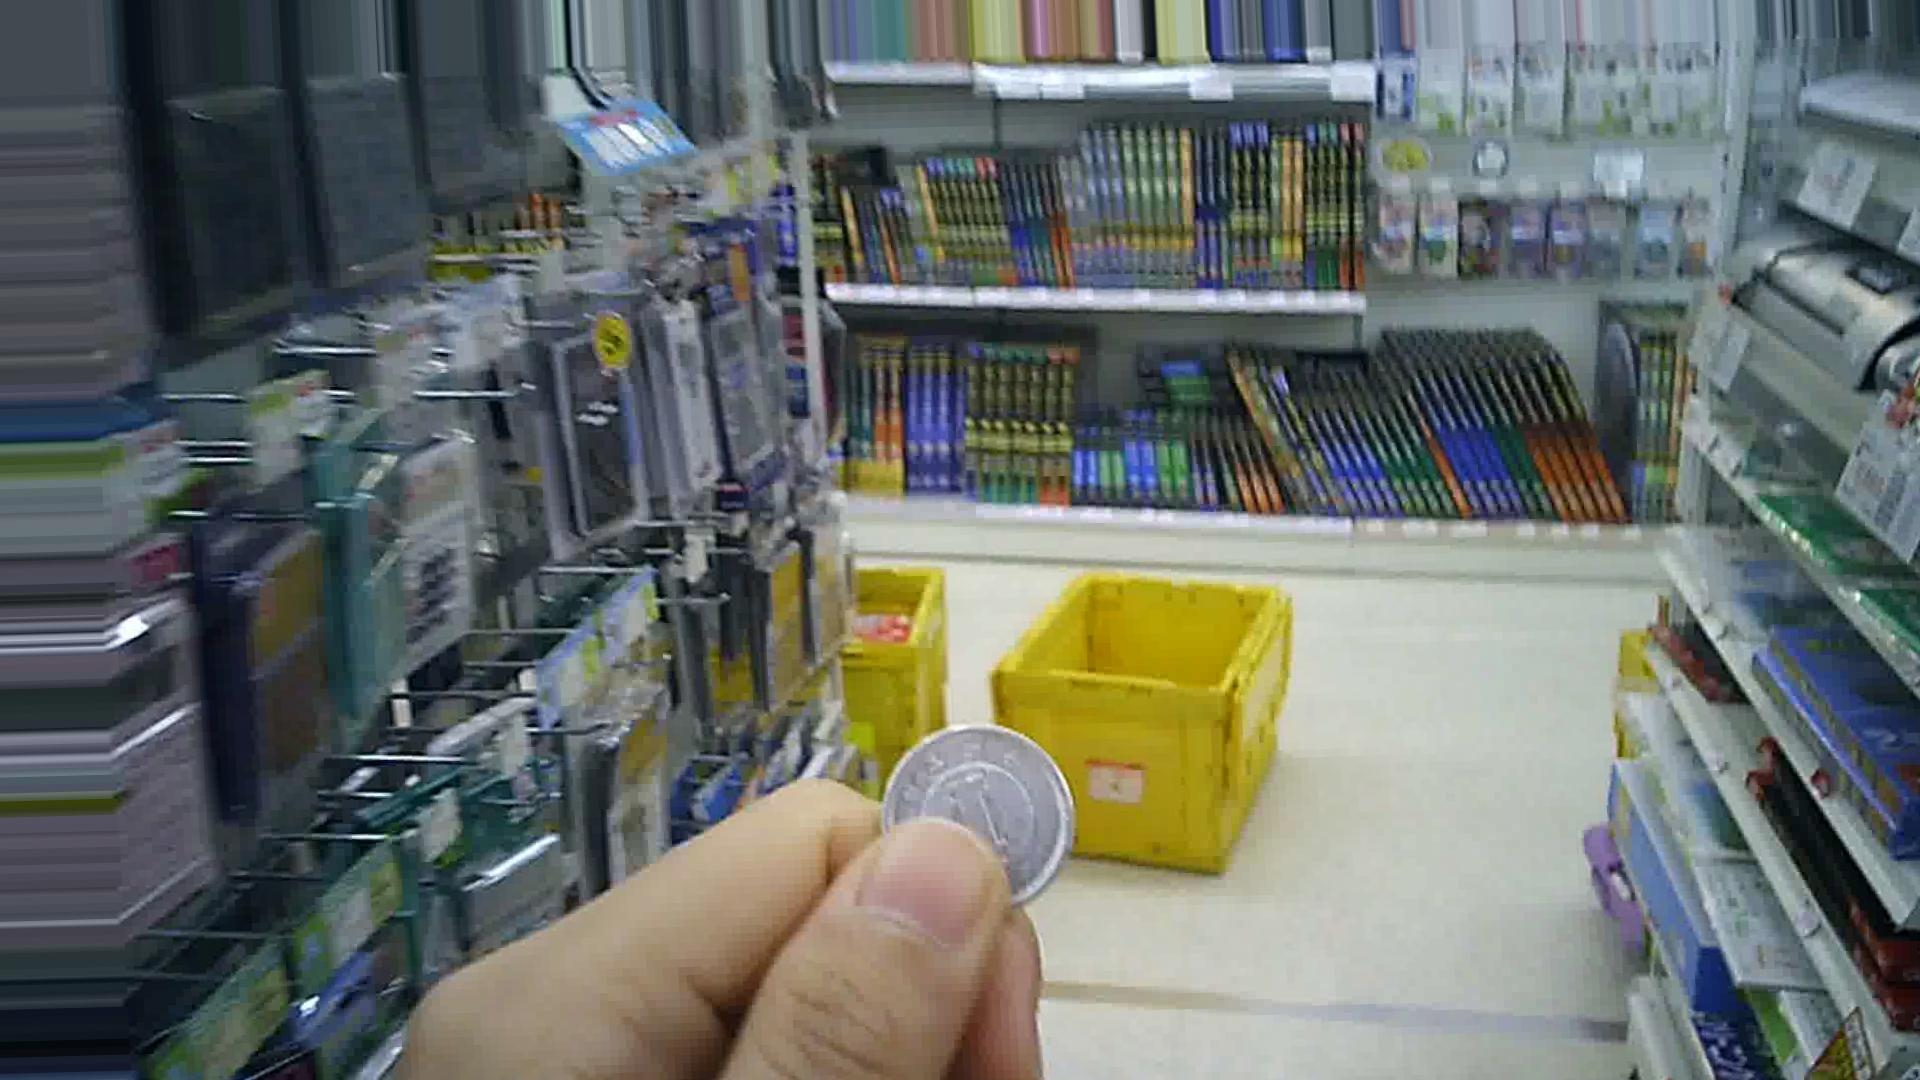1 Yen: (880, 720, 1069, 901)
